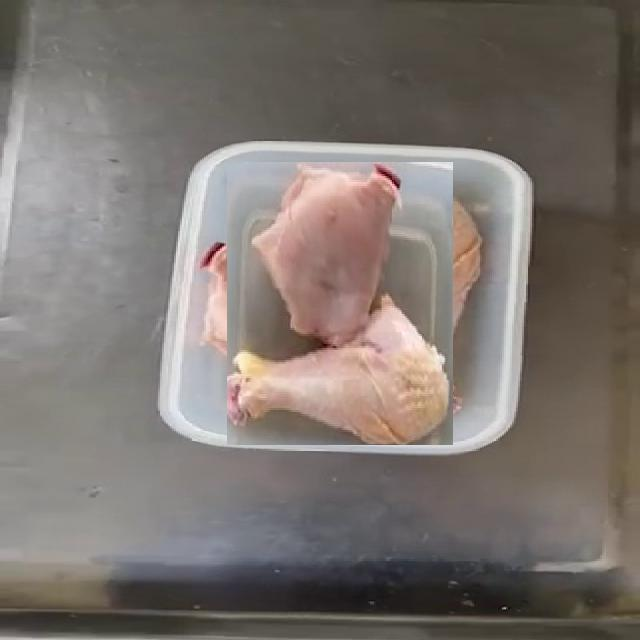chicken: (212, 176, 468, 430)
